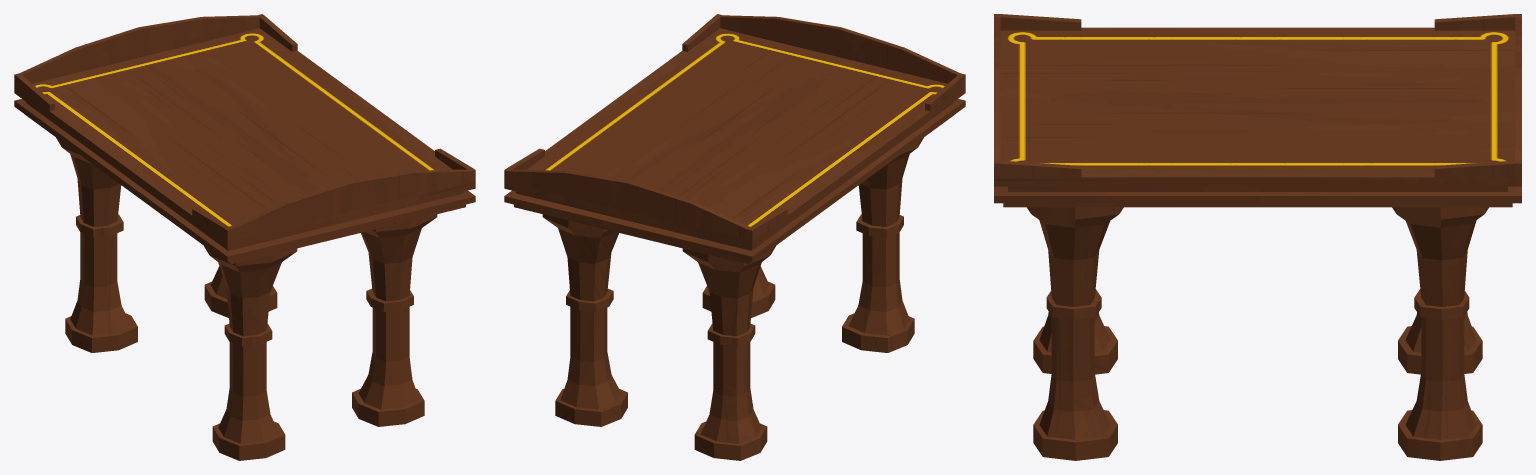
File: Table.fbx
3 views of the same model, side by side, from view 1: azimuth 30°, elevation 25°; view 2: azimuth 150°, elevation 25°; view 3: azimuth 270°, elevation 25° (orthographic). The views are drawn at different scales.
Parts seen in each view (by area): view 1: Drawer_A.003; view 2: Drawer_A.003; view 3: Drawer_A.003.
Part boxes in pixels (left/top/right/bottom): Drawer_A.003: left=14, top=14, right=475, bottom=460; Drawer_A.003: left=504, top=14, right=965, bottom=460; Drawer_A.003: left=994, top=14, right=1521, bottom=460.
Bounding box in the file's own units: 1718 × 1781 × 2557.
1 material, 1 textured.
